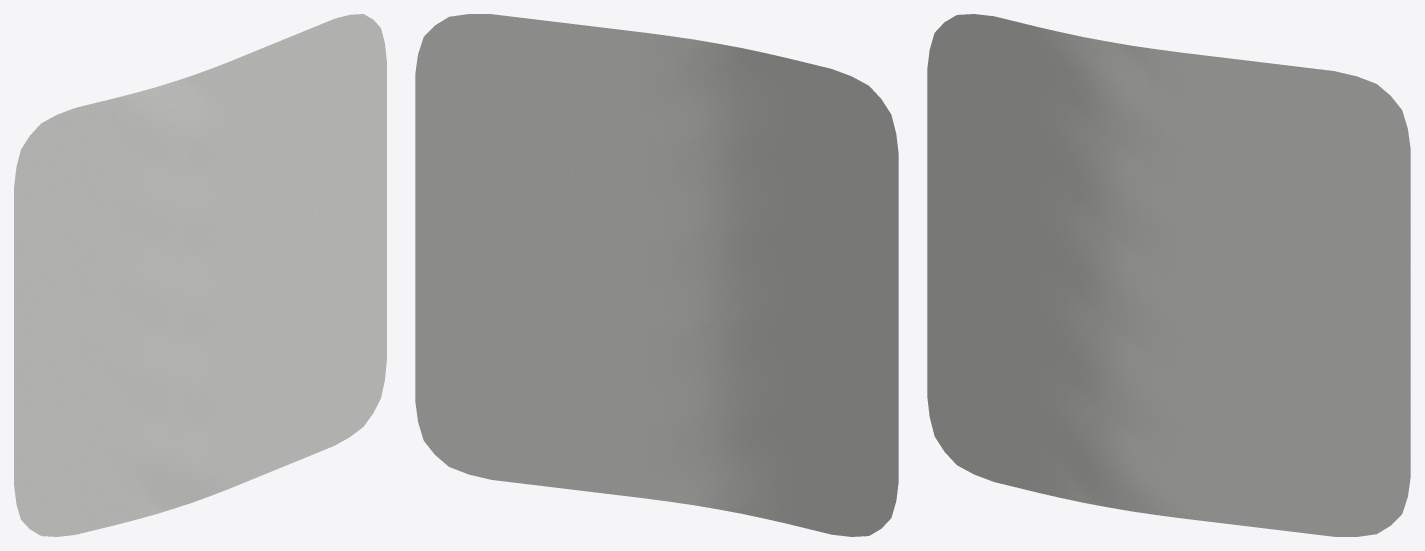
File: floor7_02.obj
3 views of the same model, side by side, from view 1: azimuth 30°, elevation 25°; view 2: azimuth 150°, elevation 25°; view 3: azimuth 330°, elevation 25° (orthographic). The views are drawn at different scales.
Visible parts, largest first — view 1: Imported_OBJ_Object; view 2: Imported_OBJ_Object; view 3: Imported_OBJ_Object.
Boxes of the visible parts, x1,y1,x2,y2 form: Imported_OBJ_Object: [14, 14, 386, 536]; Imported_OBJ_Object: [415, 14, 898, 536]; Imported_OBJ_Object: [927, 14, 1410, 536].
Bounding box in the file's own units: 1 × 1 × 0.15.
